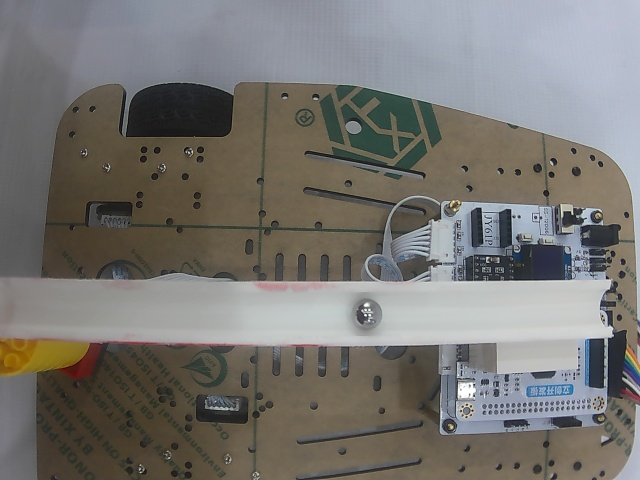steelball: (351, 298, 383, 328)
